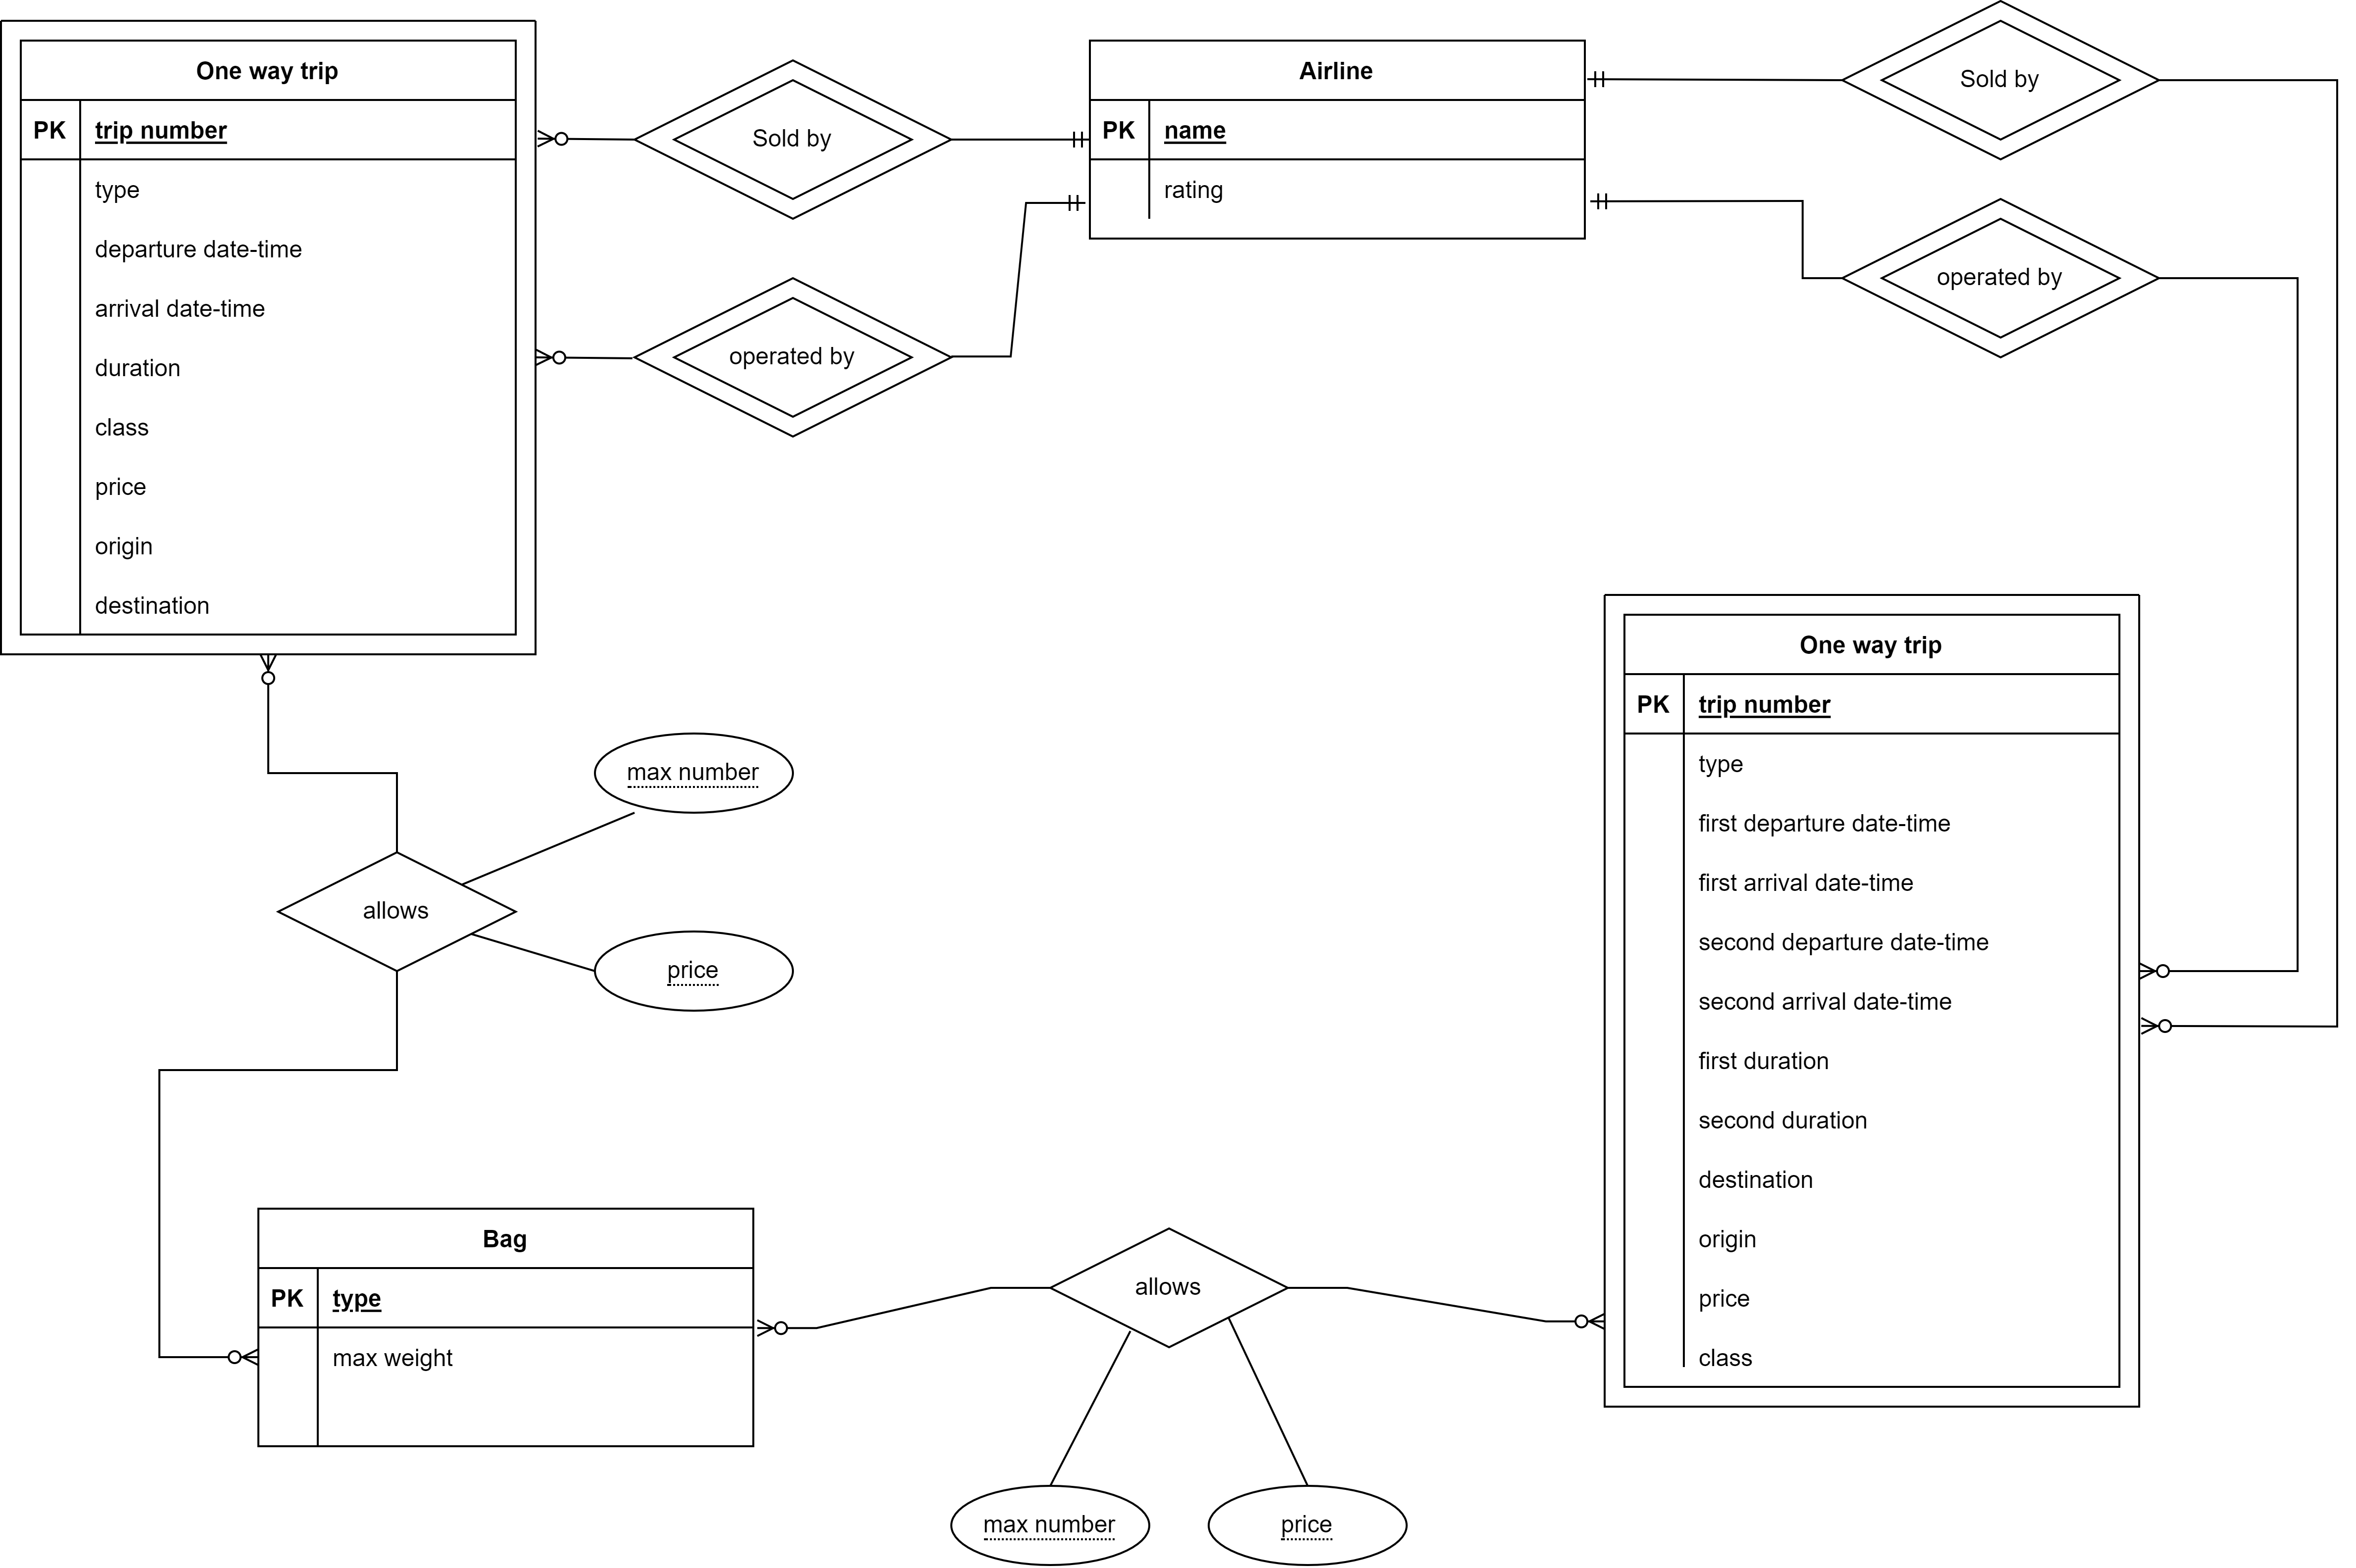entity: (259, 1207, 750, 1444), (1086, 40, 1585, 236)
ident_rel: (635, 59, 953, 224), (633, 275, 957, 436), (1851, 199, 2164, 362), (1840, 2, 2157, 161)
many: (257, 654, 276, 773), (159, 1347, 259, 1370), (537, 129, 635, 152), (2139, 961, 2223, 985), (2139, 1011, 2223, 1036), (535, 348, 631, 366), (1544, 1311, 1604, 1335), (756, 1318, 815, 1342)
one: (1585, 191, 1681, 212), (1004, 129, 1090, 152), (1588, 70, 1663, 91), (1025, 191, 1088, 212)
rel: (280, 850, 518, 971), (1060, 1230, 1286, 1346)
rel_attr: (946, 1480, 1158, 1566), (1209, 1484, 1408, 1568), (591, 733, 794, 814), (596, 934, 792, 1015)
weak_entity: (1609, 593, 2146, 1414), (2, 17, 542, 656)
